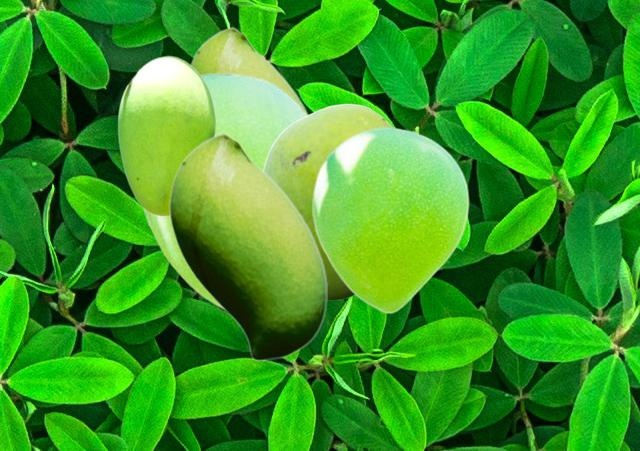green_mango: (139, 72, 309, 312), (168, 132, 326, 360), (312, 126, 468, 313), (262, 103, 392, 299), (117, 55, 215, 215), (190, 26, 308, 112)
